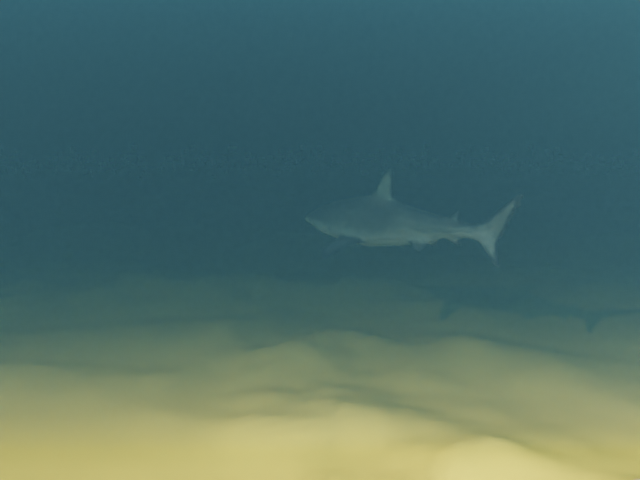Carribean Shark.001: (304, 168, 523, 267)
